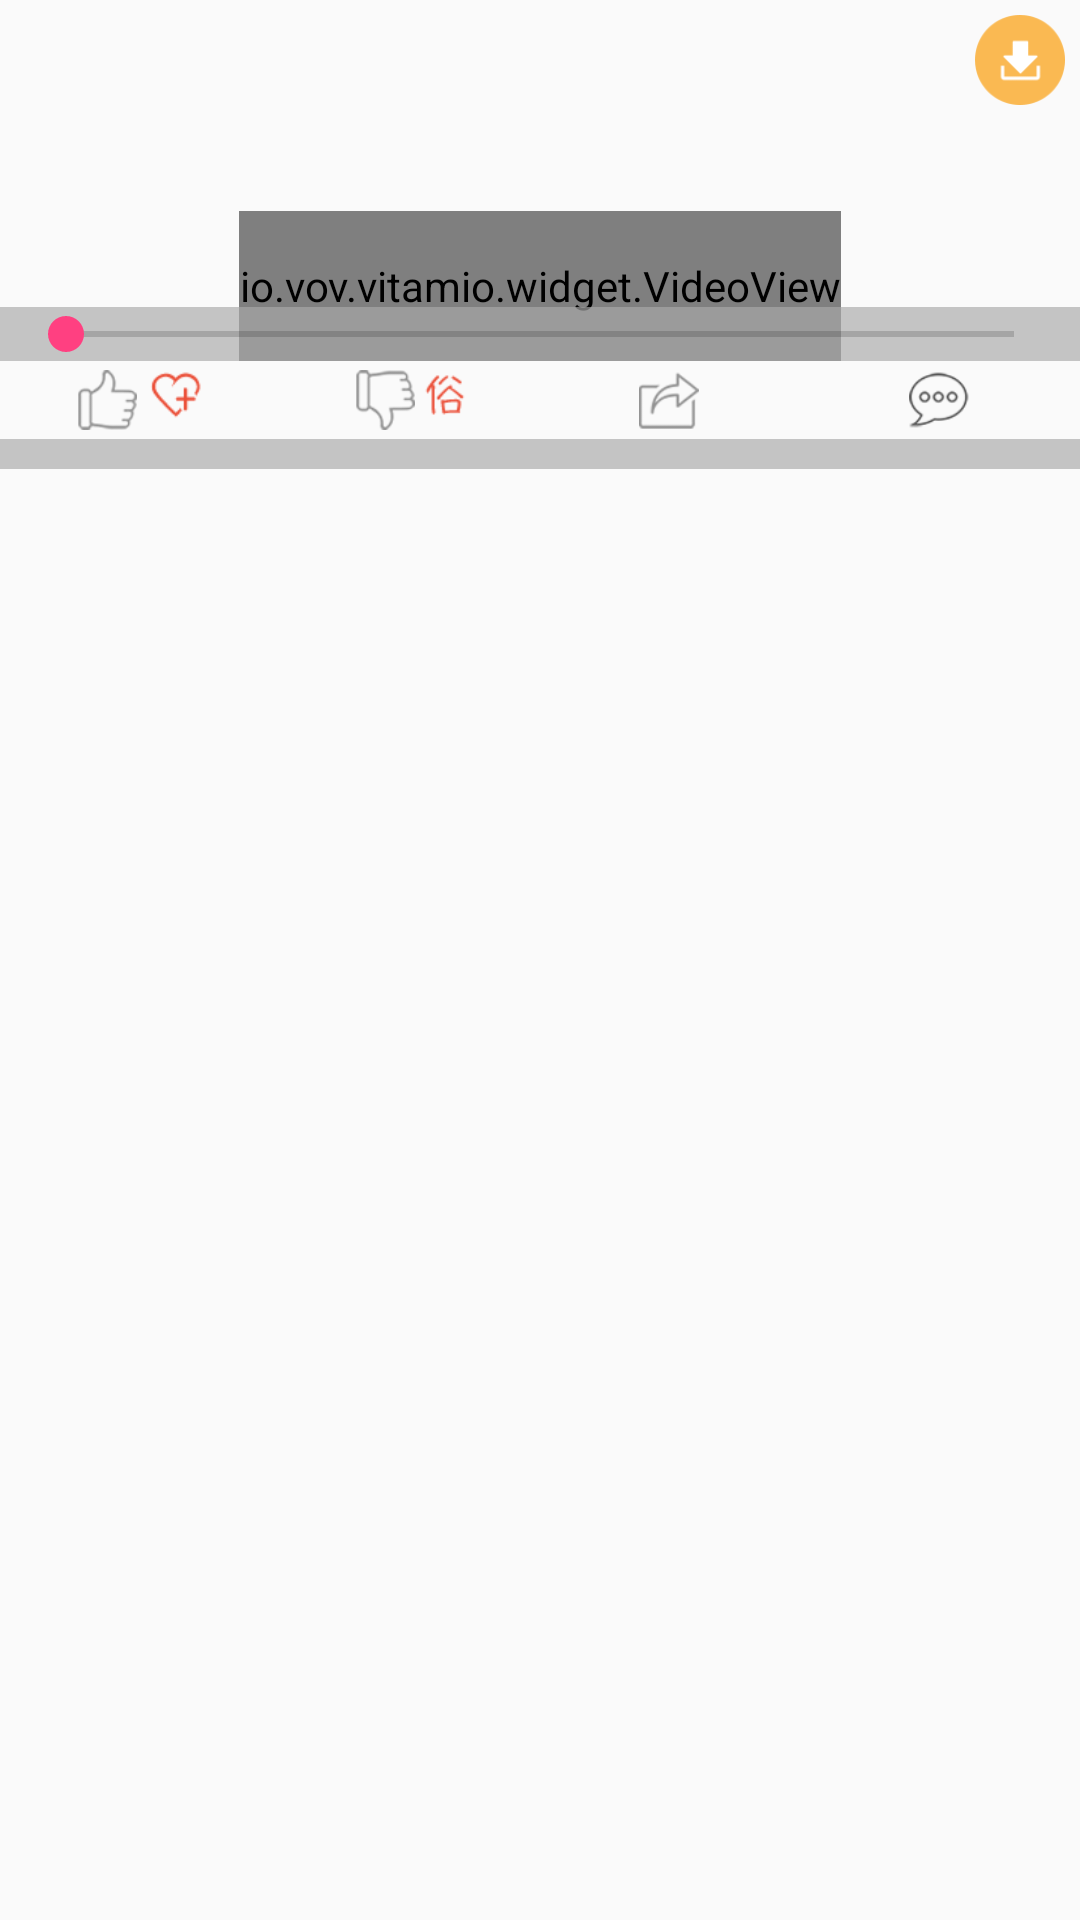

Named icons in this screenshot (1080 x 1920) and their bounding boxes, (left=x1, top=y1, right=x2, bottom=y2):
cai not clicked: (left=356, top=370, right=415, bottom=430)
commend: (left=909, top=372, right=969, bottom=427)
ding not clicked: (left=78, top=370, right=137, bottom=430)
down video: (left=975, top=15, right=1065, bottom=105)
forward: (left=639, top=373, right=699, bottom=429)
